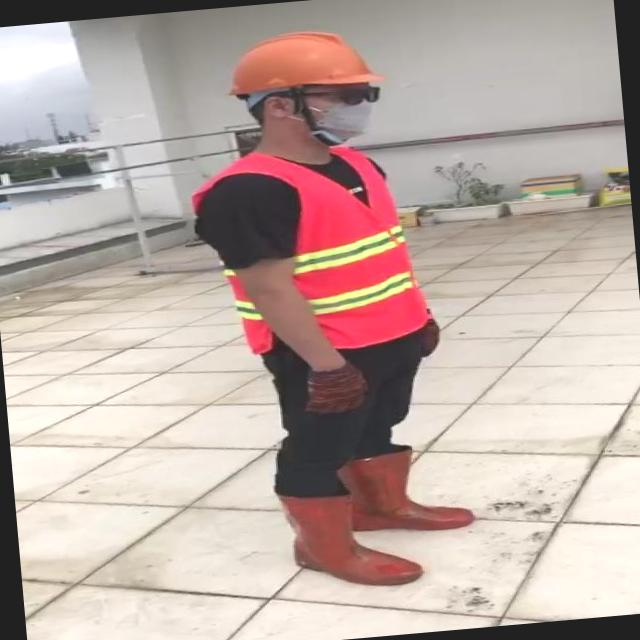boots: (278, 480, 423, 594), (341, 446, 474, 540)
gloves: (278, 332, 376, 438)
helmet: (220, 26, 378, 96)
vest: (184, 138, 430, 360)
